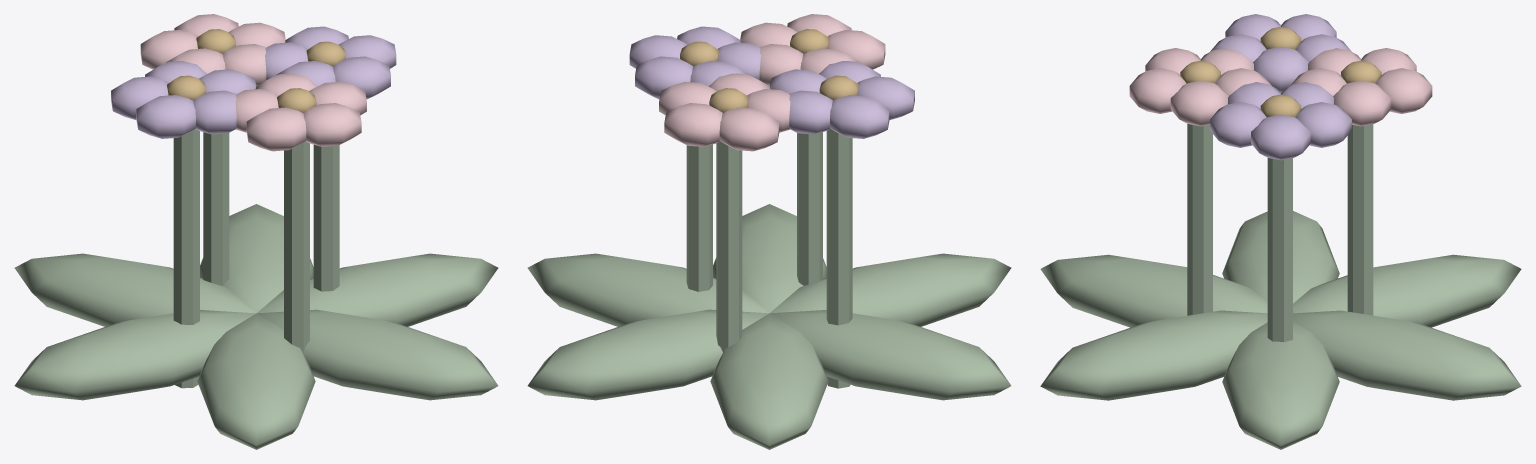
The model's file is farm-crop-3.glb.
3 renders of one model, left to right at view 1: azimuth 30°, elevation 25°; view 2: azimuth 150°, elevation 25°; view 3: azimuth 270°, elevation 25°, orthographic.
Parts seen in each view (by area): view 1: leaf; view 2: leaf; view 3: leaf.
Boxes of the visible parts, x1,y1,x2,y2 form: leaf: [14, 14, 498, 449]; leaf: [527, 14, 1011, 449]; leaf: [1040, 14, 1521, 449].
Bounding box in the file's own units: 1.04 × 0.625 × 0.9007.
